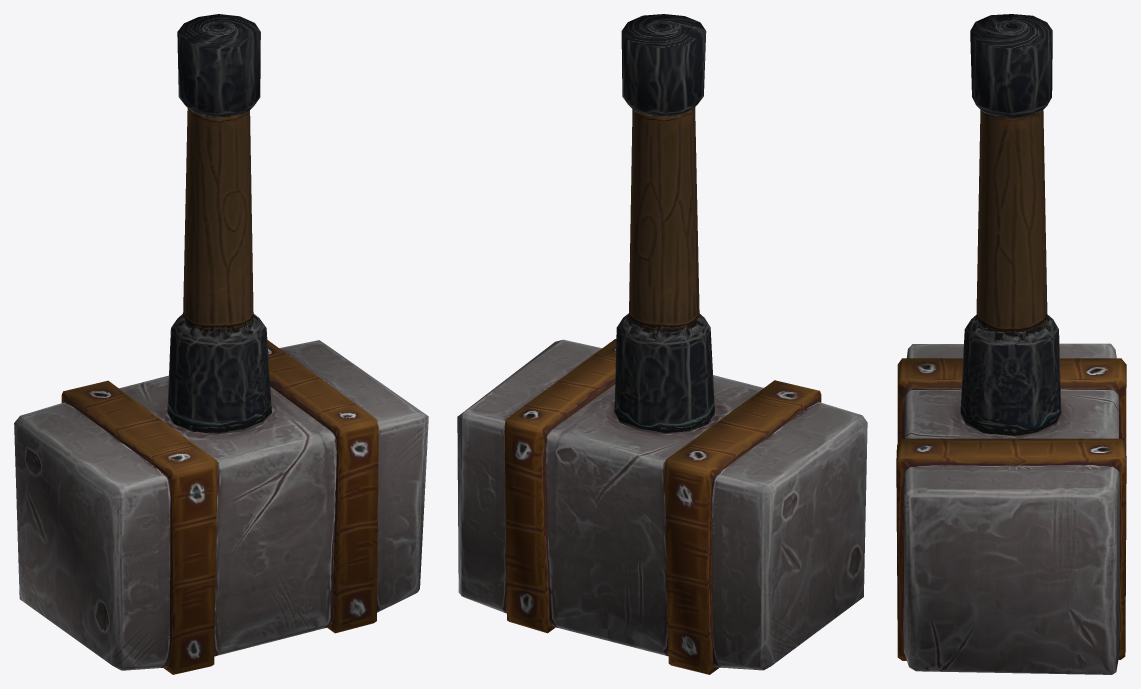
Rendered from GAM0210023.fbx.
3 views of the same model, side by side, from view 1: azimuth 30°, elevation 25°; view 2: azimuth 150°, elevation 25°; view 3: azimuth 270°, elevation 25° (orthographic).
Parts seen in each view (by area): view 1: smGAM0210023; view 2: smGAM0210023; view 3: smGAM0210023.
Part boxes in pixels (box(x1,y1,x2,y2)): smGAM0210023: box(14, 14, 428, 674); smGAM0210023: box(457, 14, 867, 674); smGAM0210023: box(896, 14, 1126, 674).
Bounding box in the file's own units: 31.12 × 55.18 × 19.53.
Materials: 1 (1 with a texture image).
